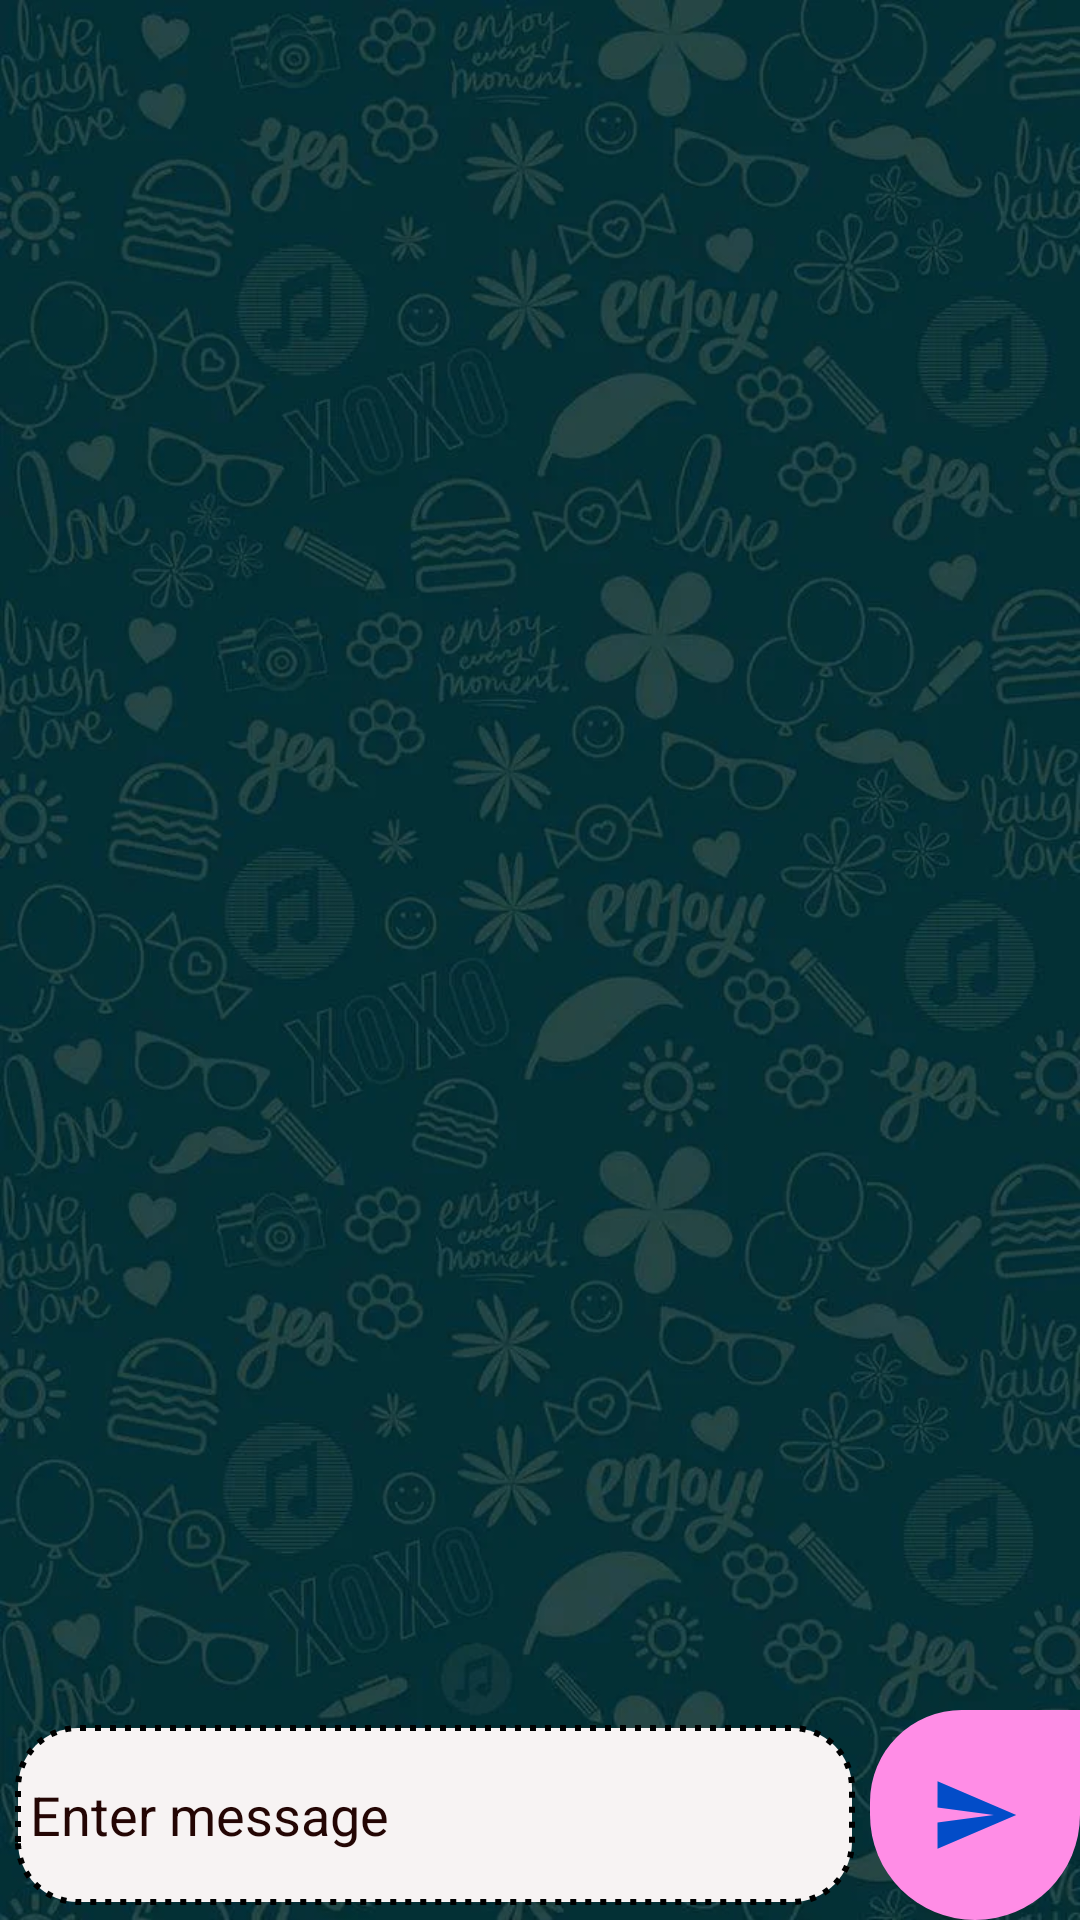

Icons on this 1080px x 1920px Android screen, each with the point to tap as [x,y]:
send: [975,1815]
